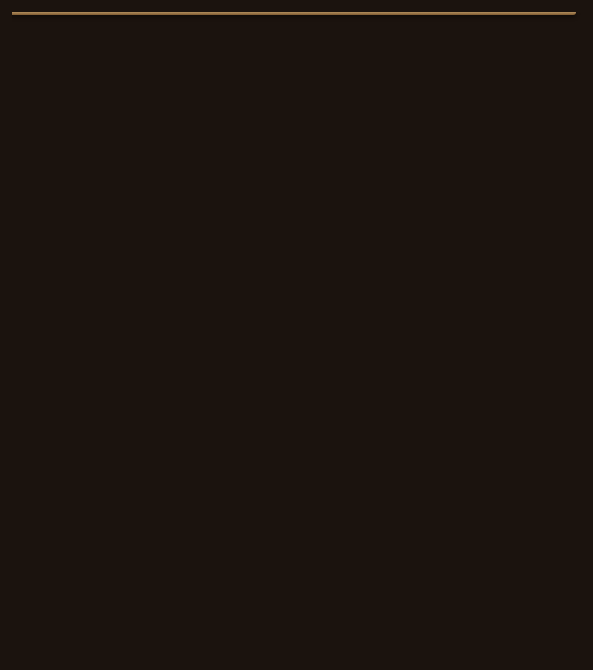
Test: ResultPanel(相手の記録と比較) › 軸ごとに相手の値と勝ち負けを並べ、まとめを出す(ランキングなし)
Press the mouse on the element with class "rs-panel" at (292, 328), box [12,12,572,645]
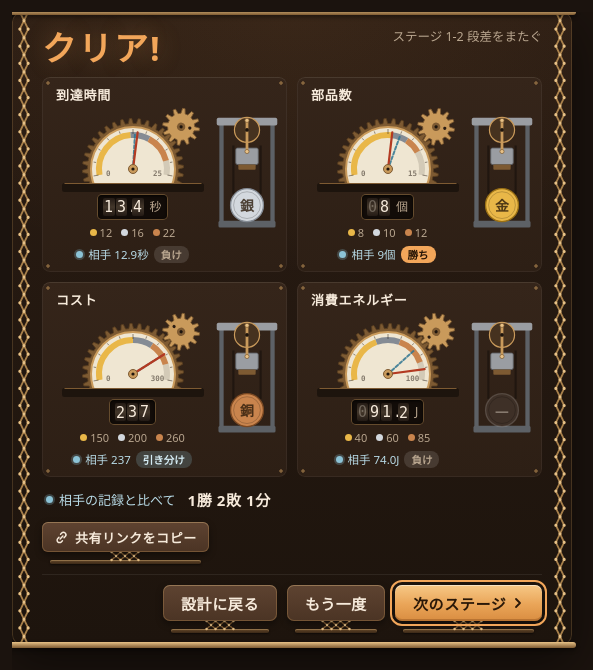
Check: the text "1勝 2敗 1分" is shown, box [188,489,271,510]
